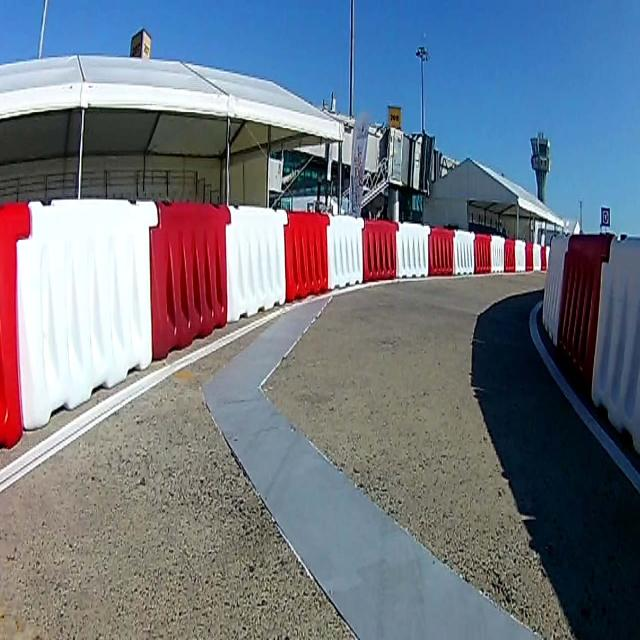durak: (600, 207, 610, 224)
